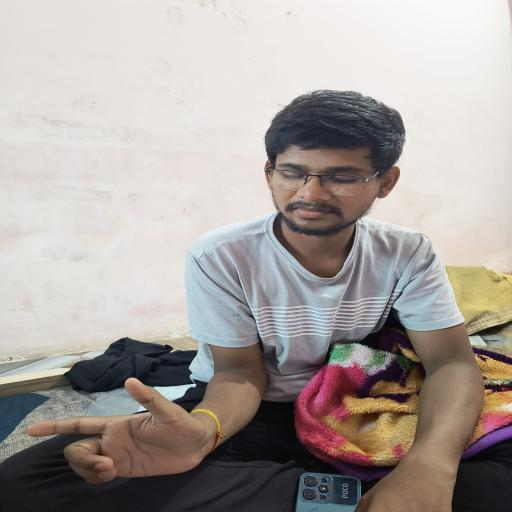Sorry: (16, 372, 250, 493)
